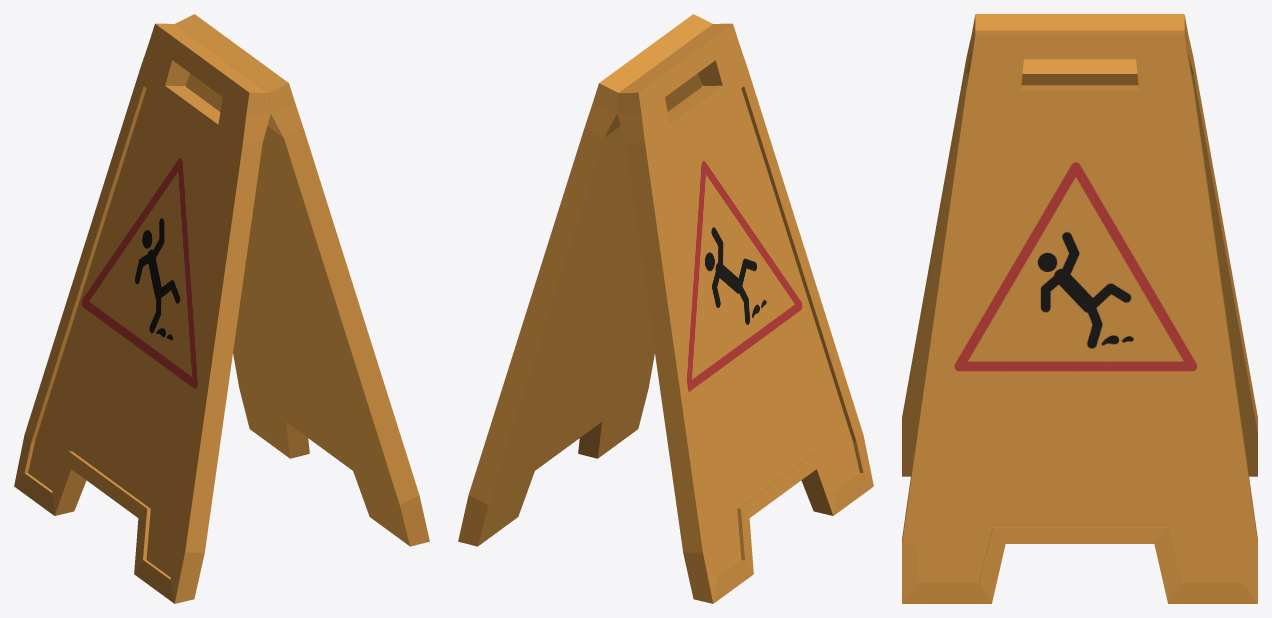
The model's file is SM_CartelPeligro.fbx.
3 renders of one model, left to right at view 1: azimuth 30°, elevation 25°; view 2: azimuth 150°, elevation 25°; view 3: azimuth 270°, elevation 25°, orthographic. The views are drawn at different scales.
Parts seen in each view (by area): view 1: Cube, Cube.001; view 2: Cube, Cube.001; view 3: Cube.001, Cube.
Boxes of the visible parts, <box> form: Cube: <box>14,14,429,603</box>; Cube.001: <box>35,88,233,543</box>; Cube: <box>458,14,873,603</box>; Cube.001: <box>654,88,852,543</box>; Cube.001: <box>918,106,1241,543</box>; Cube: <box>902,14,1257,603</box>.
Bounding box in the file's own units: 33.77 × 58.25 × 36.81.
